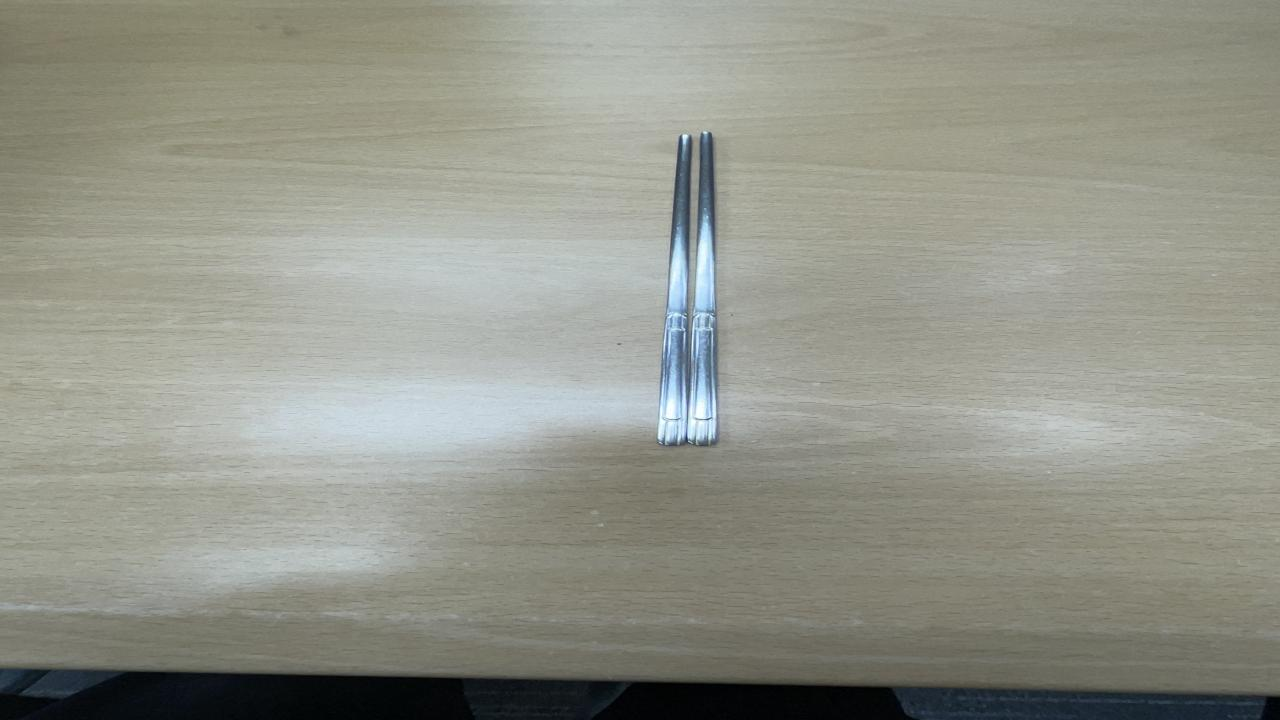chopstick: (652, 132, 724, 452)
